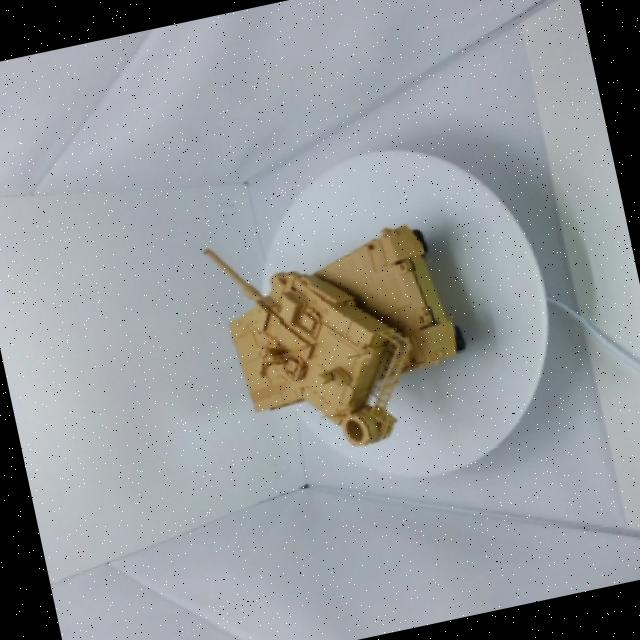korea tank: (148, 122, 504, 506)
